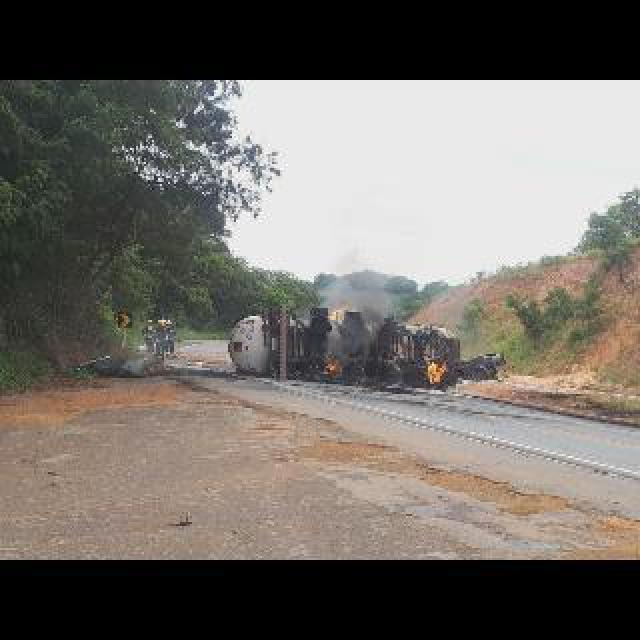Fire: (428, 362, 448, 384), (328, 364, 340, 370)
Smoke: (312, 264, 399, 322)
